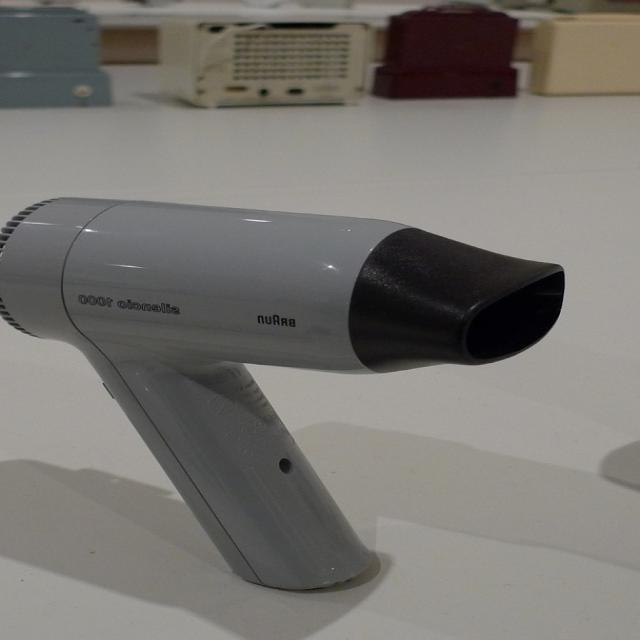dryer: (0, 164, 591, 606)
